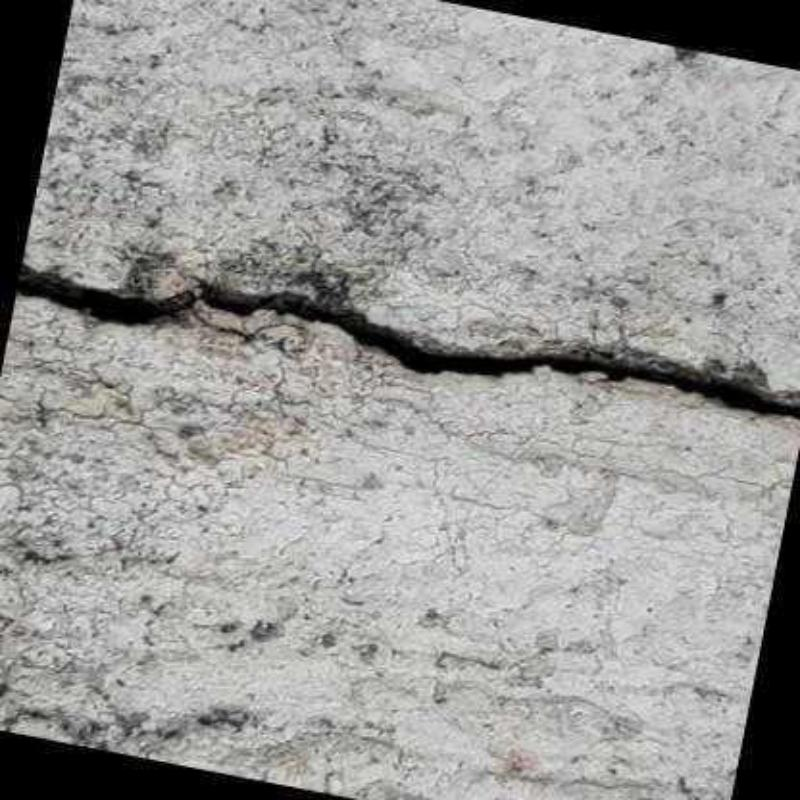crack: (14, 265, 800, 421)
